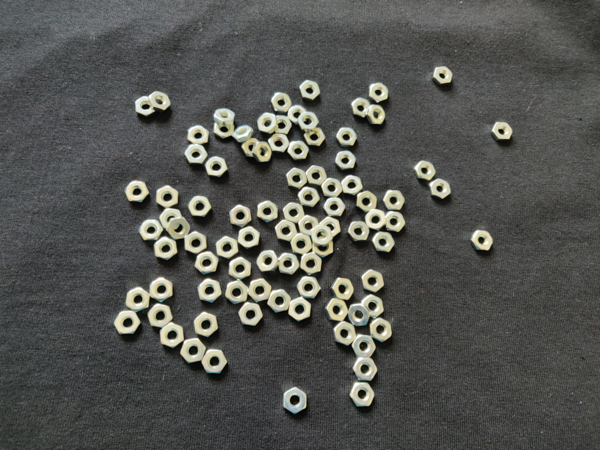nut: (114, 311, 142, 335), (147, 304, 174, 328), (284, 387, 307, 415), (202, 350, 227, 375), (181, 339, 206, 364), (350, 383, 376, 407), (126, 288, 150, 313), (154, 236, 178, 261), (161, 323, 184, 349), (194, 313, 218, 337), (239, 303, 263, 327), (268, 290, 292, 314), (198, 279, 222, 303), (150, 278, 173, 303), (166, 217, 191, 240), (352, 335, 376, 358), (334, 322, 357, 346), (289, 298, 312, 322), (325, 299, 349, 322), (361, 270, 385, 293), (249, 279, 272, 303), (226, 281, 249, 305), (195, 252, 219, 275), (353, 359, 378, 381), (362, 294, 384, 319), (370, 319, 393, 342), (348, 303, 371, 326), (331, 278, 354, 301), (229, 257, 252, 280), (216, 236, 239, 259), (125, 181, 150, 202), (301, 253, 323, 276), (257, 250, 280, 272), (185, 231, 207, 254), (238, 227, 261, 249), (283, 202, 306, 224), (229, 206, 252, 228), (156, 186, 179, 208), (297, 277, 321, 298), (139, 220, 164, 240), (160, 208, 182, 230), (275, 220, 297, 242), (471, 230, 494, 251), (188, 197, 212, 217), (184, 145, 208, 165), (373, 232, 395, 253), (279, 253, 300, 275), (313, 236, 334, 258), (291, 233, 312, 255), (320, 217, 341, 239), (298, 216, 320, 237), (258, 201, 279, 223), (365, 210, 387, 231), (356, 191, 377, 213), (341, 175, 363, 196), (286, 168, 308, 189), (206, 156, 228, 177), (149, 91, 171, 112), (383, 191, 406, 211), (298, 187, 321, 207), (297, 112, 320, 132), (312, 226, 333, 247), (258, 113, 279, 134), (429, 179, 451, 199), (414, 161, 436, 181), (306, 166, 328, 186), (188, 125, 210, 145), (322, 178, 343, 198), (300, 80, 321, 100), (348, 222, 370, 241), (324, 198, 346, 217), (335, 151, 357, 170), (304, 128, 326, 147), (268, 134, 290, 153), (386, 212, 406, 232), (366, 105, 386, 125), (252, 142, 272, 162), (242, 138, 262, 158), (492, 122, 513, 141), (288, 141, 309, 160), (271, 93, 292, 112), (336, 128, 358, 146), (232, 126, 255, 143), (369, 83, 389, 102), (135, 97, 155, 116), (352, 98, 371, 117), (274, 116, 293, 135), (288, 106, 308, 124), (214, 122, 235, 139), (214, 109, 235, 126), (433, 67, 453, 84)
